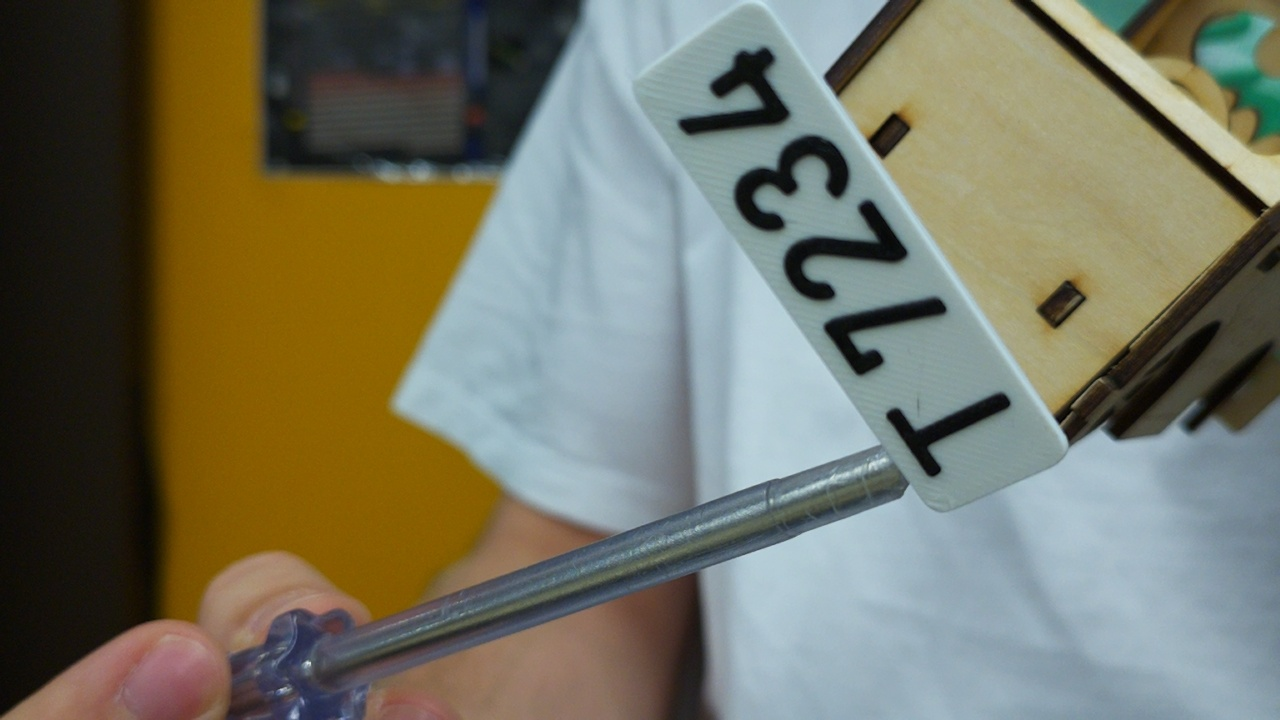license_plate: (627, 4, 1072, 516)
